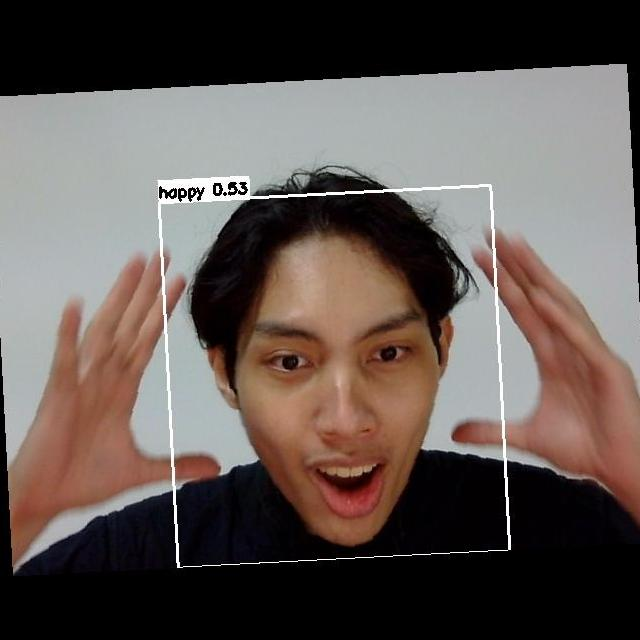Surprised: (233, 288, 445, 524)
